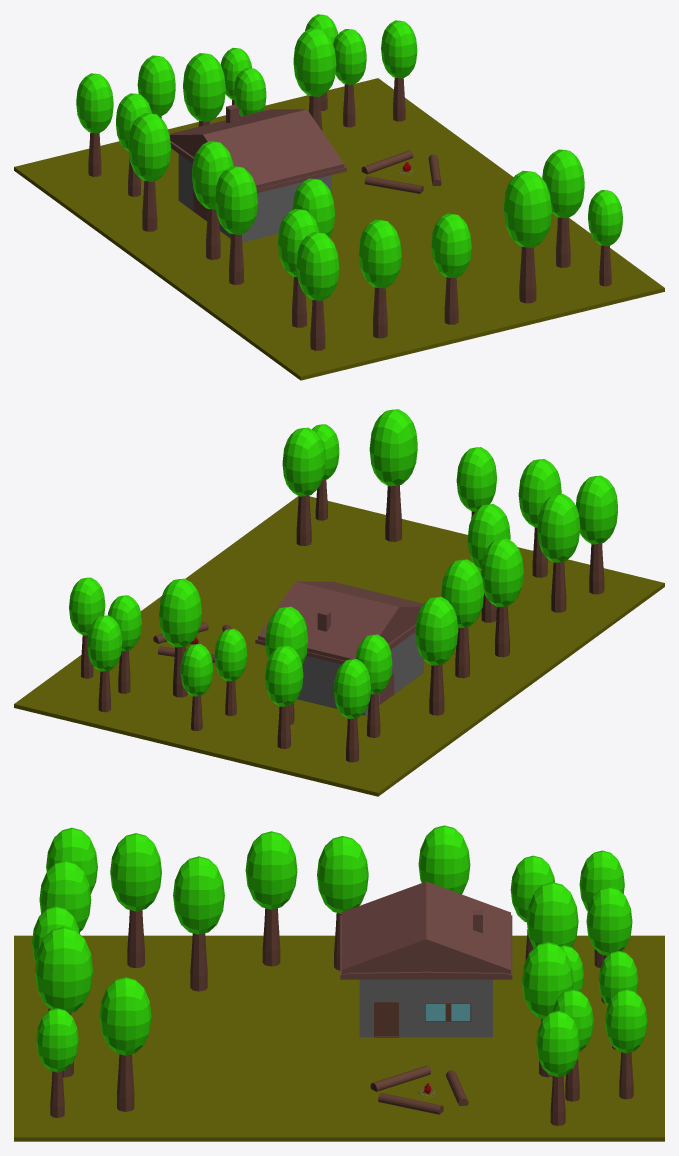
Rendered from Home (2).fbx.
3 renders of one model, top to bottom at view 1: azimuth 30°, elevation 25°; view 2: azimuth 150°, elevation 25°; view 3: azimuth 270°, elevation 25°, orthographic. The views are drawn at different scales.
Parts seen in each view (by area): view 1: Cube.007, Cube.001, Cube.008, Cube.004, Cube.016, Cube.006, Cube.014, Cube.009, Cube.010, Cube.021, Cube.015, Cube.019 (+12 smaller); view 2: Cube.007, Cube.001, Cube.008, Cube.016, Cube.011, Cube.009, Cube.014, Cube.004, Cube.021, Cube.015, Cube.018, Cube.006 (+11 smaller); view 3: Cube.007, Cube.001, Cube.014, Cube.009, Cube.011, Cube.012, Cube.008, Cube.015, Cube.023, Cube.021, Cube.013, Cube.022 (+15 smaller).
Boxes of the visible parts, box(x1,y1,x2,y2) form: Cube.007: box(14, 78, 664, 380); Cube.001: box(169, 109, 346, 242); Cube.008: box(504, 170, 551, 303); Cube.004: box(296, 232, 339, 350); Cube.016: box(128, 113, 170, 231); Cube.006: box(359, 219, 401, 338); Cube.014: box(215, 166, 257, 284); Cube.009: box(542, 149, 584, 267); Cube.010: box(431, 213, 471, 324); Cube.021: box(293, 28, 336, 130); Cube.015: box(192, 141, 233, 259); Cube.019: box(183, 53, 225, 126); Cube.007: box(14, 496, 664, 796); Cube.001: box(255, 581, 423, 715); Cube.008: box(369, 409, 417, 541); Cube.016: box(415, 596, 458, 715); Cube.011: box(537, 494, 580, 612); Cube.009: box(282, 427, 325, 545); Cube.014: box(481, 538, 523, 657); Cube.004: box(576, 475, 617, 594); Cube.021: box(159, 578, 201, 697); Cube.015: box(441, 559, 483, 678); Cube.018: box(265, 645, 303, 748); Cube.006: box(518, 459, 561, 577); Cube.007: box(14, 935, 664, 1141); Cube.001: box(340, 881, 512, 1037); Cube.014: box(245, 831, 297, 966); Cube.009: box(99, 977, 151, 1111); Cube.011: box(110, 833, 161, 968); Cube.012: box(173, 856, 224, 991); Cube.008: box(35, 926, 92, 1077); Cube.015: box(317, 836, 368, 970); Cube.023: box(536, 1011, 579, 1125); Cube.021: box(522, 942, 573, 1077); Cube.013: box(36, 1008, 78, 1117); Cube.022: box(605, 989, 647, 1099).
Size of the model in its own units: 3850 by 1351 by 5251.
